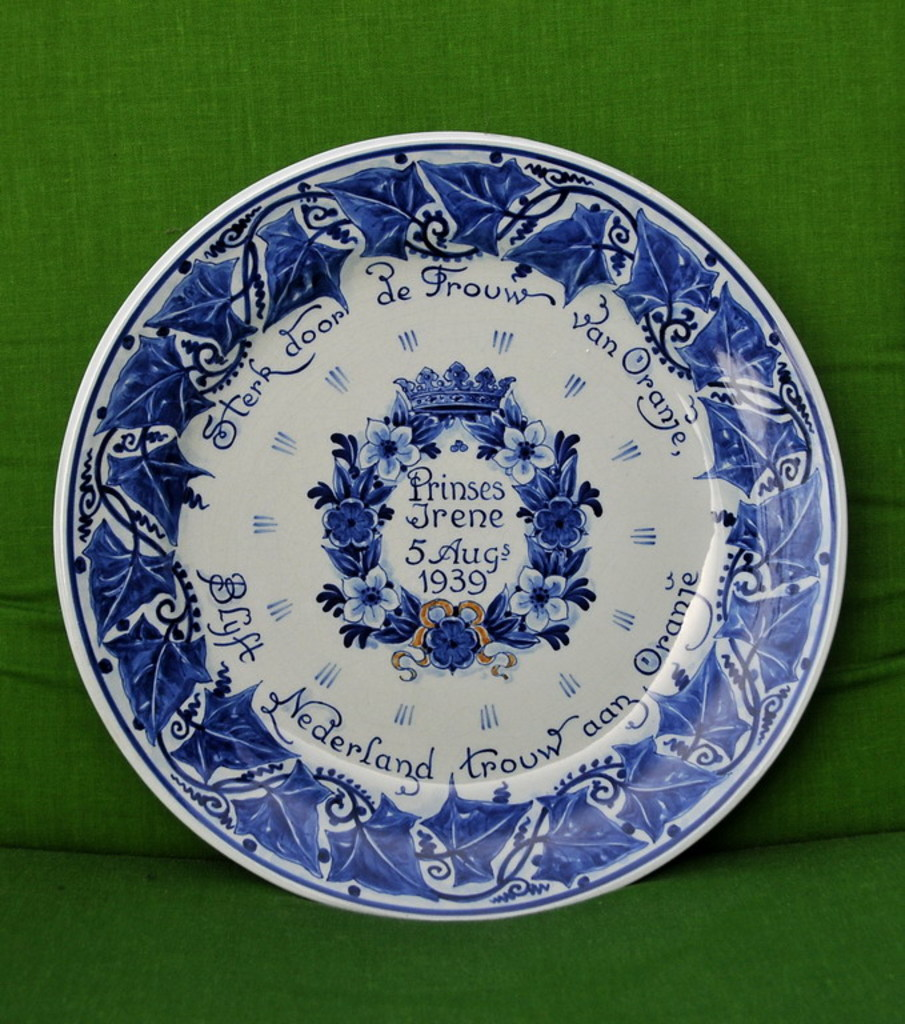plate: (35, 145, 837, 882)
